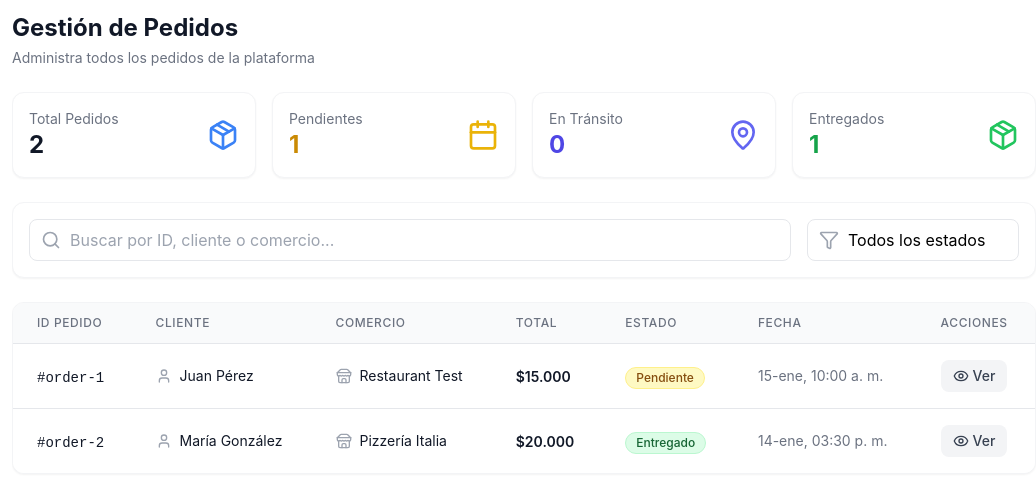
Test: Orders Component › Filtros › debe buscar pedidos por nombre de cliente
The image size is (1036, 491).
Expected: the text "Juan Pérez" is shown, left=180, top=366, right=254, bottom=386
In the field with placeholder "Buscar por ID, cliente o comercio...": (410, 240) left=29, top=219, right=791, bottom=261, type "Juan"
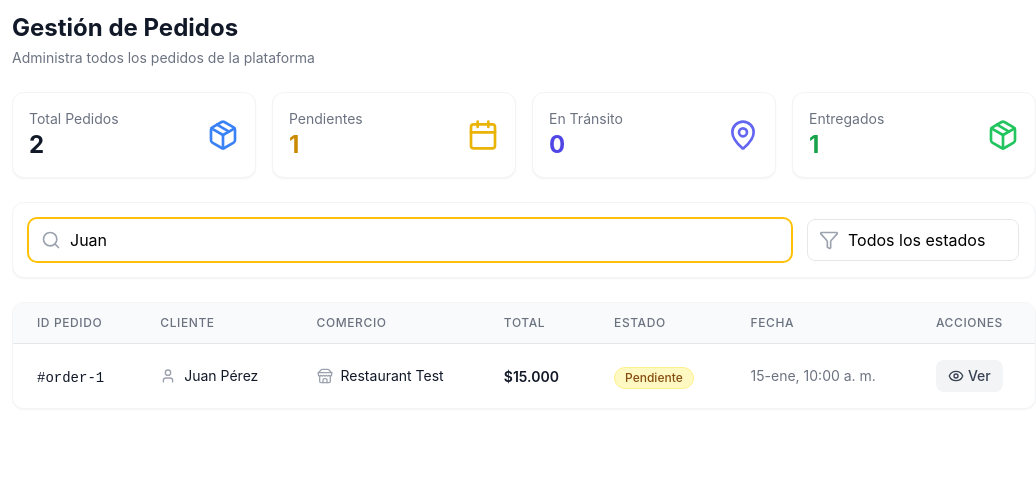
Expected: the text "Juan Pérez" is shown, left=184, top=366, right=258, bottom=386
Result: the text "María González" is gone
